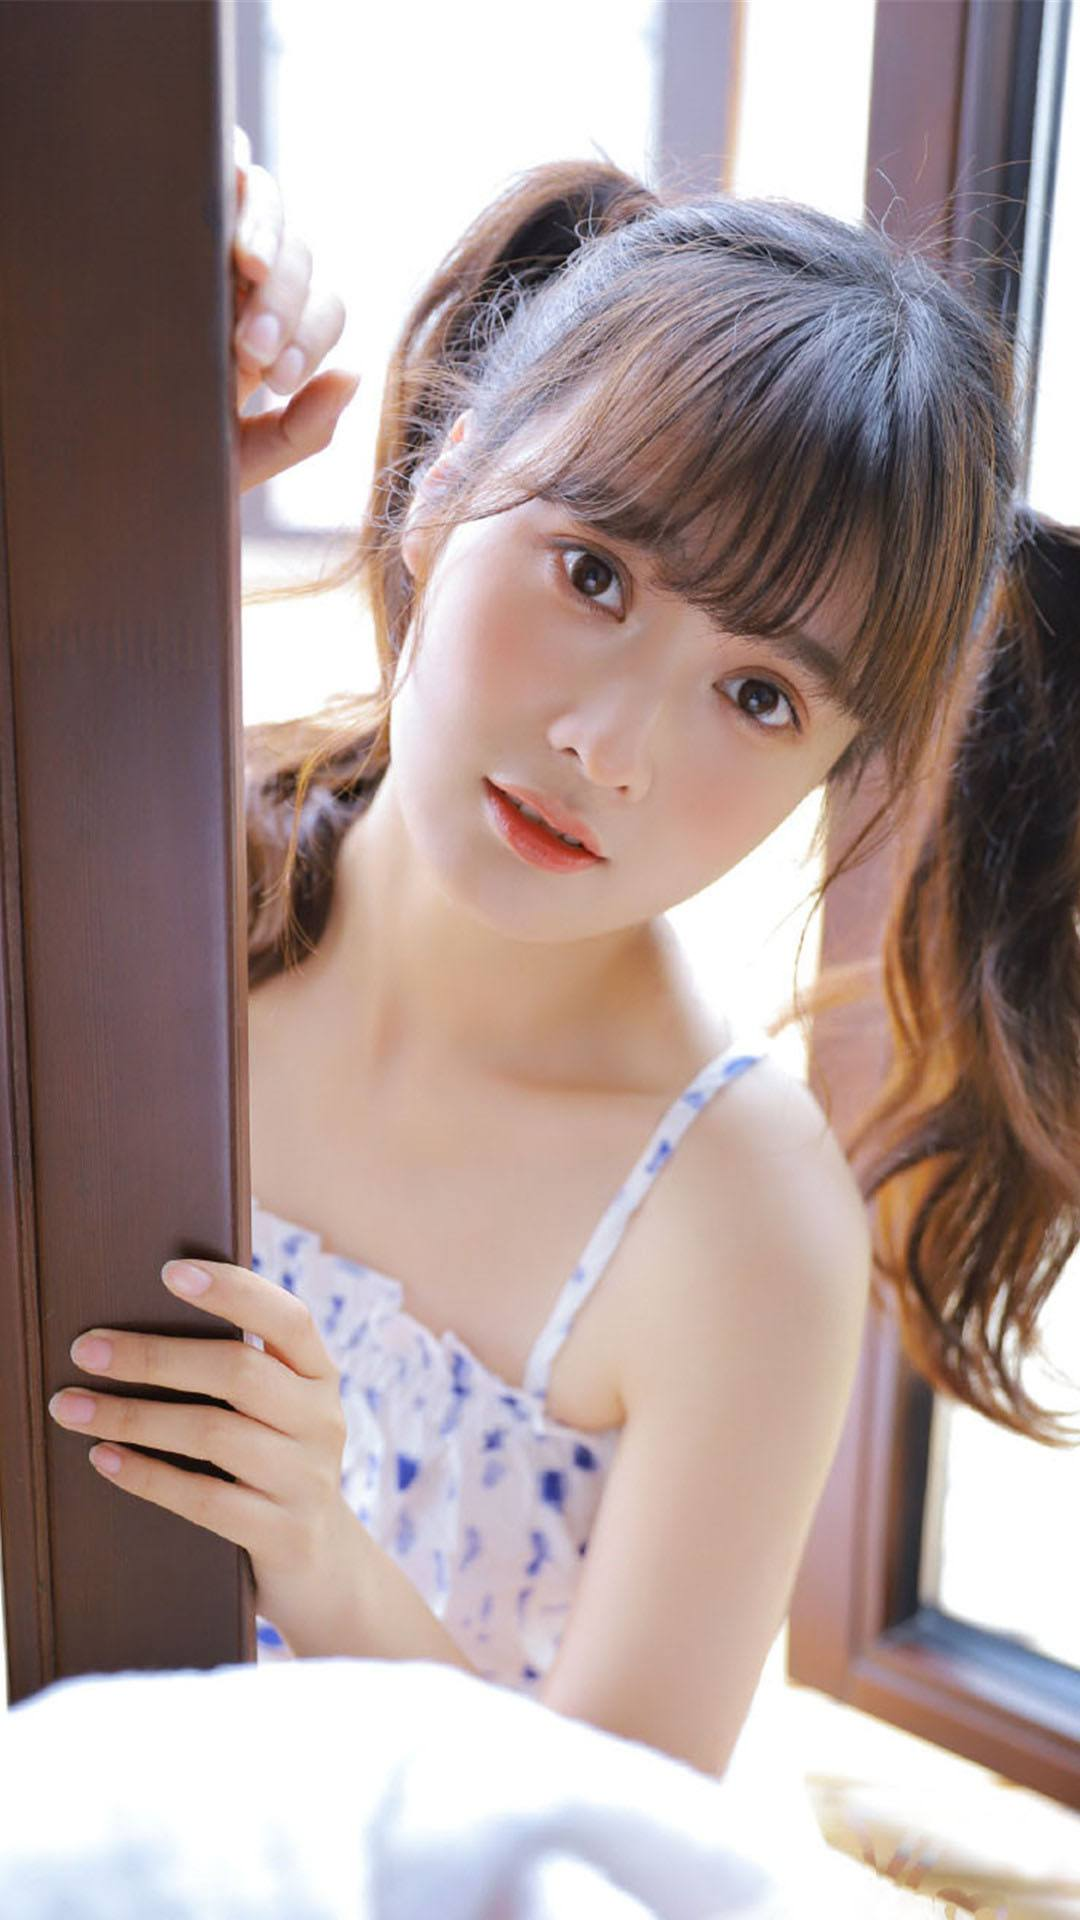person: (128, 219, 998, 1619)
